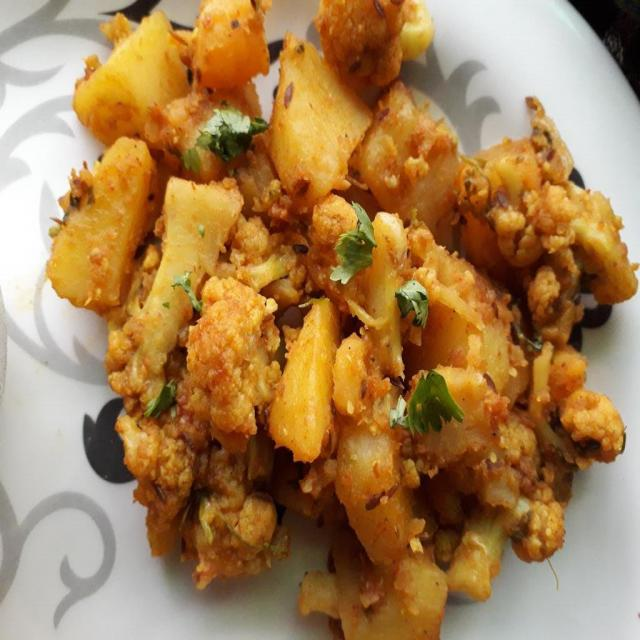Aloo Gobi: (34, 3, 636, 640)
